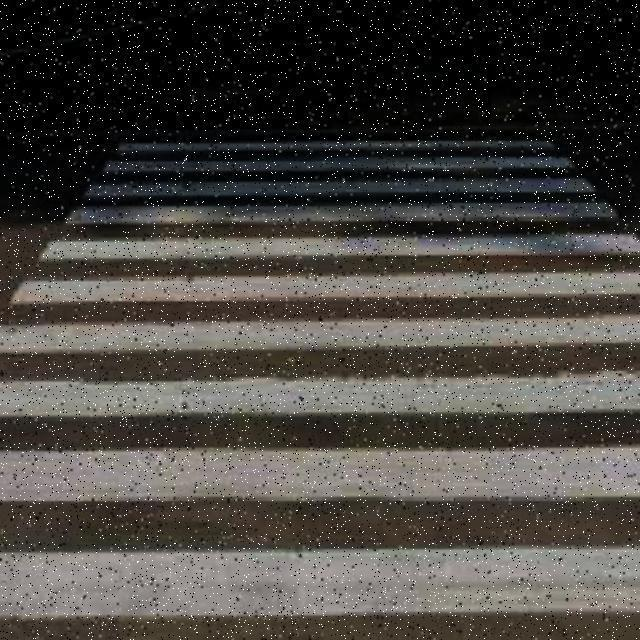Pedestrian crosswalk: (1, 132, 635, 636)
